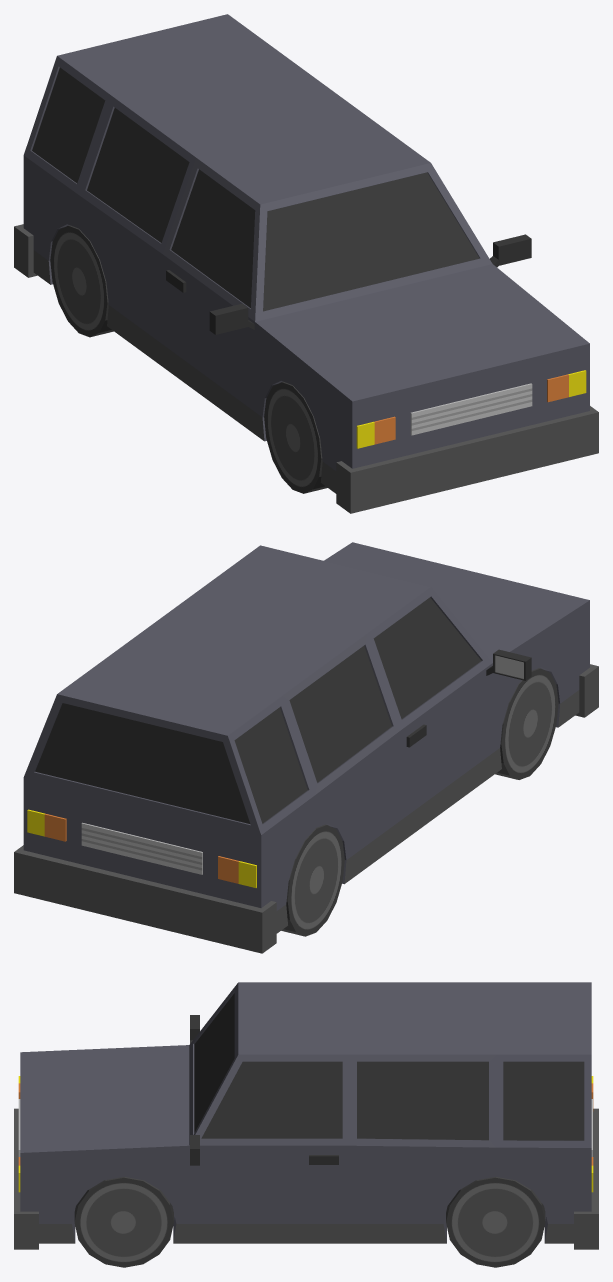
The model's file is jeep01_color03.fbx.
3 renders of one model, top to bottom at view 1: azimuth 30°, elevation 25°; view 2: azimuth 150°, elevation 25°; view 3: azimuth 270°, elevation 25°, orthographic. The views are drawn at different scales.
Visible parts, largest first — view 1: Cube.484, Cube.488, Cube.485; view 2: Cube.484, Cube.488, Cube.485; view 3: Cube.484, Cube.487, Cube.486.
Part boxes in pixels (x1=…): Cube.484: x1=14, y1=14, x2=598, y2=513; Cube.488: x1=50, y1=225, x2=113, y2=337; Cube.485: x1=264, y1=381, x2=327, y2=493; Cube.484: x1=14, y1=542, x2=598, y2=953; Cube.488: x1=281, y1=824, x2=344, y2=936; Cube.485: x1=495, y1=668, x2=558, y2=779; Cube.484: x1=14, y1=982, x2=598, y2=1249; Cube.487: x1=74, y1=1176, x2=173, y2=1267; Cube.486: x1=446, y1=1176, x2=545, y2=1267.
Size of the model in its own units: 272 by 188 by 502.
